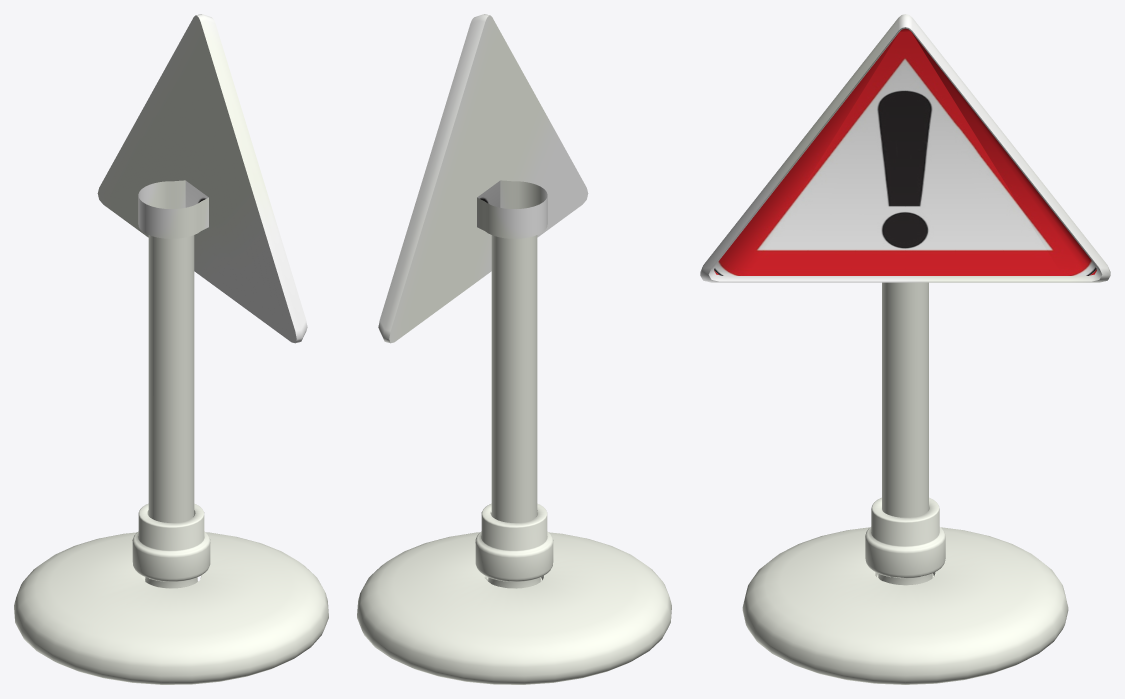
Rendered from panneau.fbx.
3 views of the same model, side by side, from view 1: azimuth 30°, elevation 25°; view 2: azimuth 150°, elevation 25°; view 3: azimuth 270°, elevation 25° (orthographic). The views are drawn at different scales.
Parts seen in each view (by area): view 1: Circle.040; view 2: Circle.040; view 3: Circle.040.
Part boxes in pixels (left/top/right/bottom): Circle.040: left=14, top=14, right=328, bottom=684; Circle.040: left=357, top=14, right=671, bottom=684; Circle.040: left=700, top=14, right=1110, bottom=684.
Size of the model in its own units: 0.646 by 1.35 by 0.8152.
